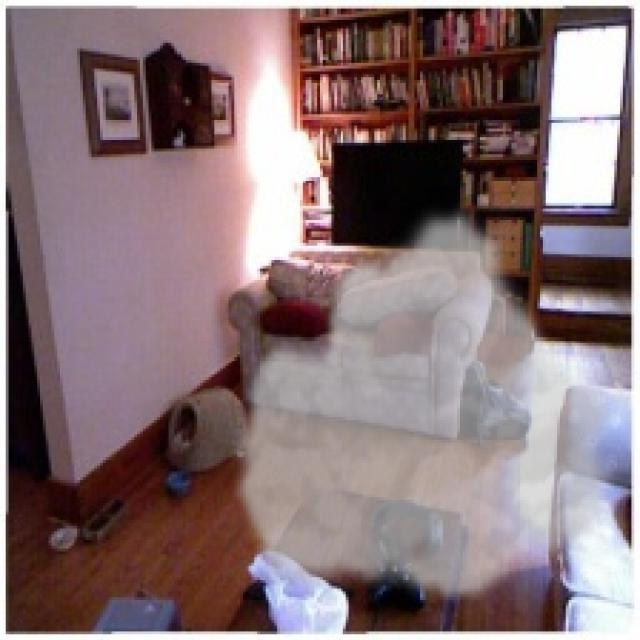smoke: (228, 203, 623, 606)
